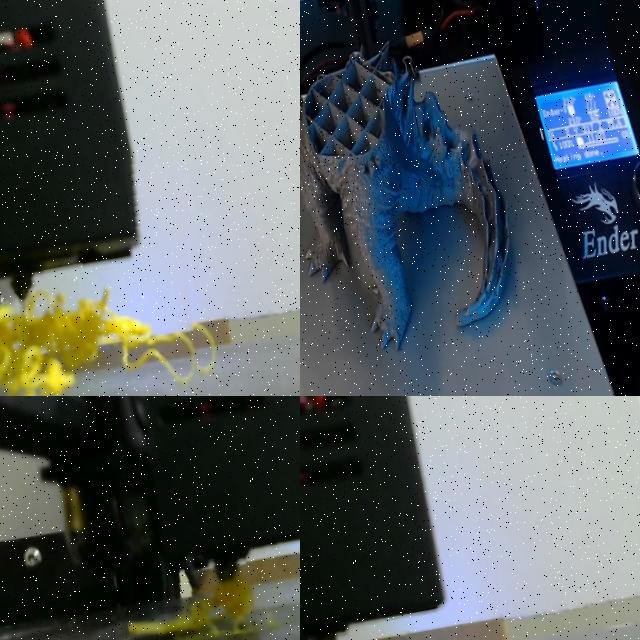spaghetti: (0, 290, 201, 396), (128, 557, 249, 637)
